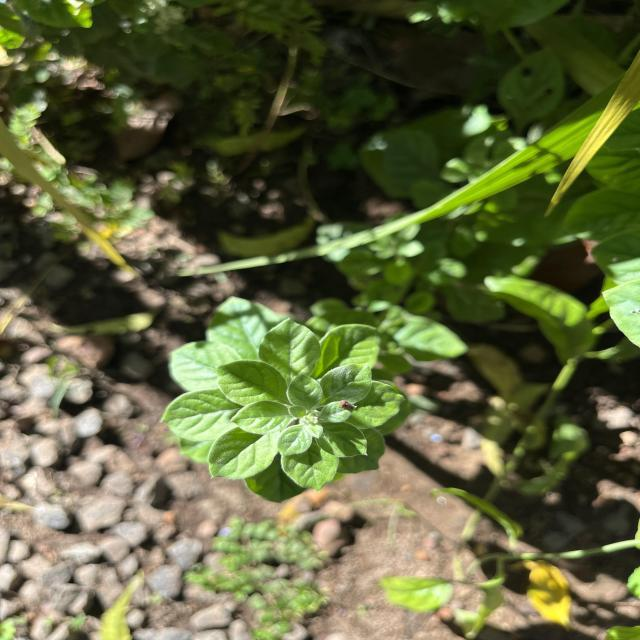Aerva lanata: (255, 314, 324, 382), (206, 426, 278, 481), (278, 434, 342, 494), (212, 358, 288, 407), (318, 360, 375, 409), (227, 399, 289, 437), (314, 422, 370, 459), (284, 372, 324, 410)
